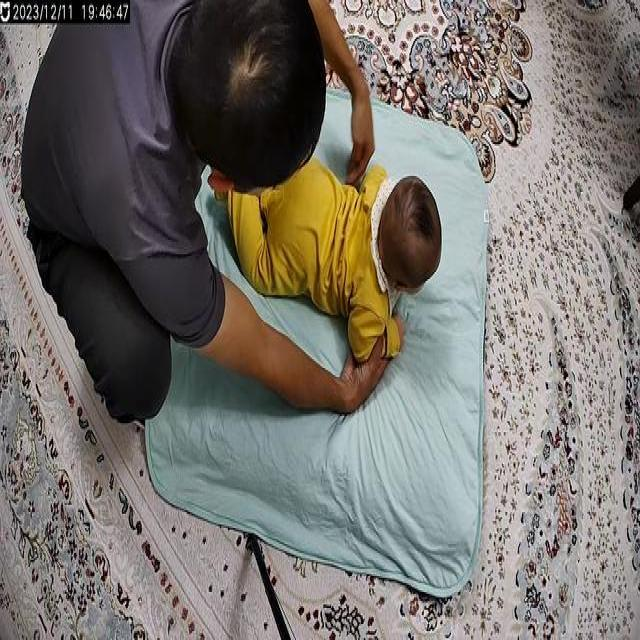baby: (220, 132, 444, 372)
